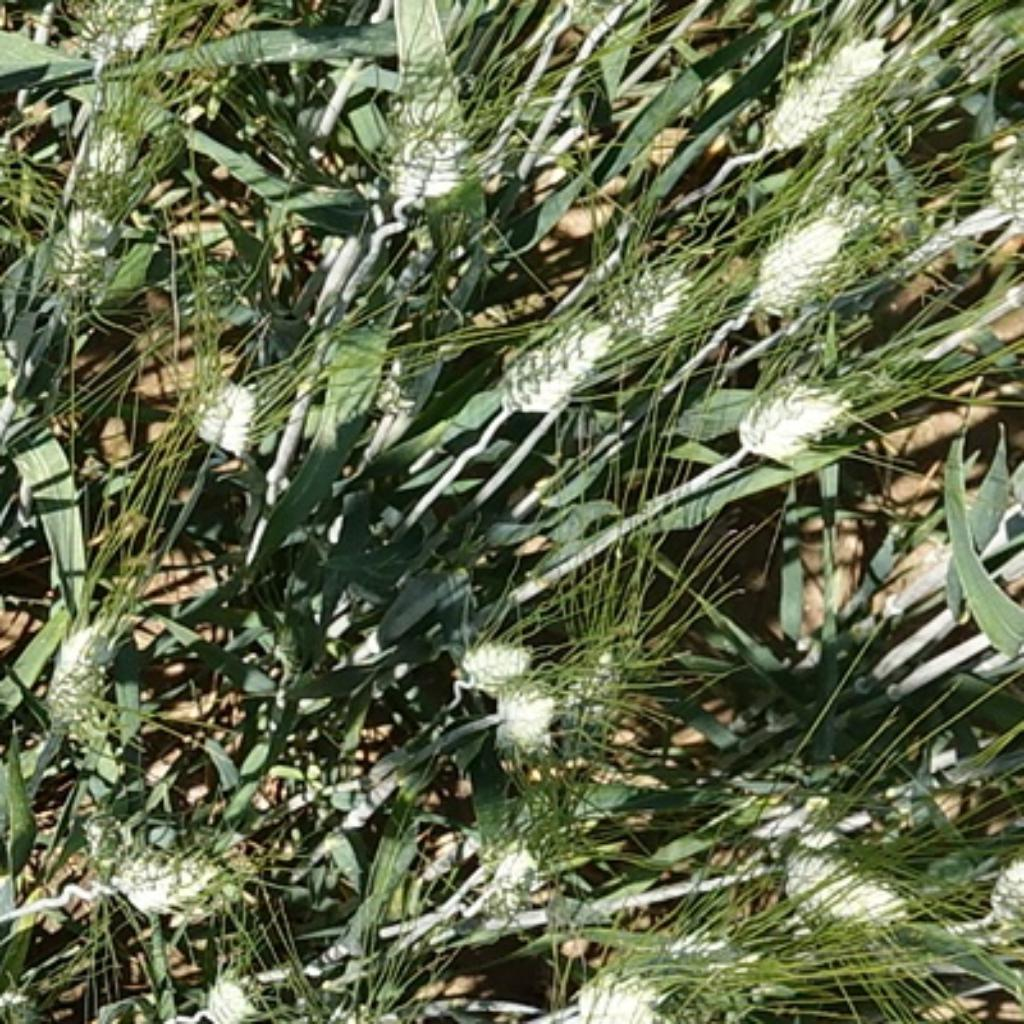0-0: (355, 33, 504, 250), (739, 165, 924, 321), (64, 801, 253, 926), (768, 821, 936, 949), (747, 15, 894, 155), (583, 235, 732, 353), (483, 291, 622, 409), (721, 353, 865, 458), (48, 79, 183, 187), (35, 601, 128, 739), (624, 893, 770, 980), (550, 614, 650, 734), (25, 199, 130, 312), (547, 949, 701, 1024), (166, 363, 273, 468), (56, 0, 178, 69), (350, 337, 437, 430), (481, 663, 560, 755), (450, 624, 537, 702), (975, 842, 1024, 949), (192, 960, 258, 1024), (978, 142, 1024, 232)
